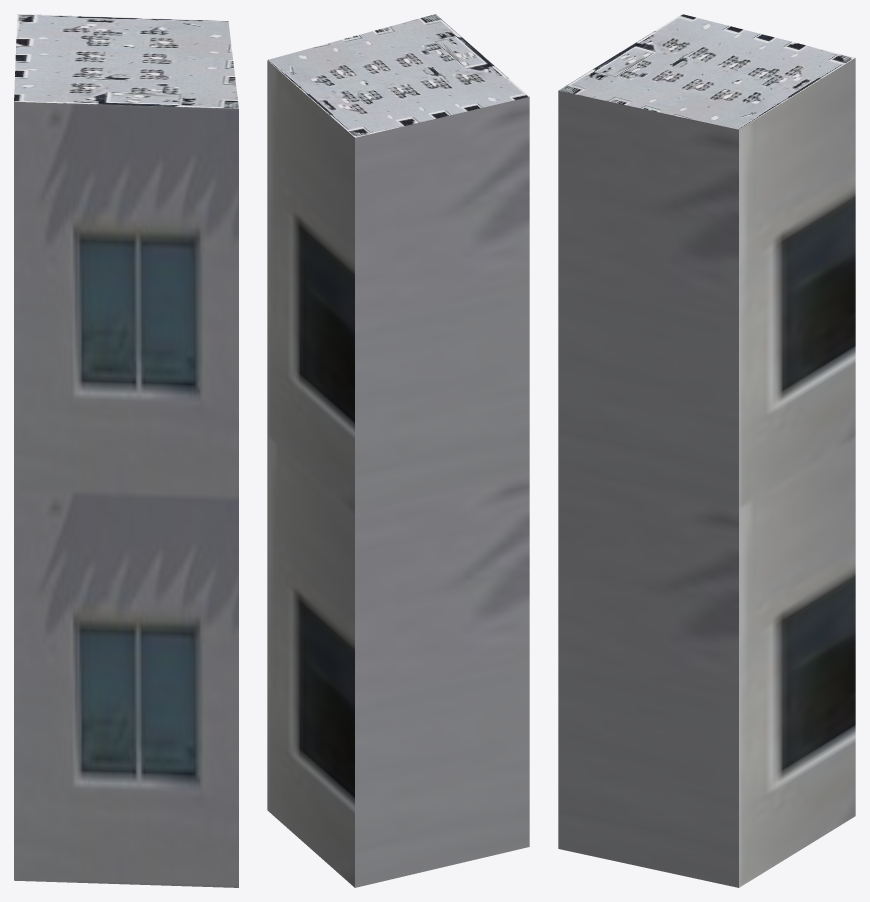
Rendered from ResTex__819.fbx.
3 renders of one model, left to right at view 1: azimuth 30°, elevation 25°; view 2: azimuth 150°, elevation 25°; view 3: azimuth 270°, elevation 25°, orthographic. The views are drawn at different scales.
Visible parts, largest first — view 1: CityEngineMaterial_10_m, CityEngineMaterial_8_m; view 2: CityEngineMaterial_10_m, CityEngineMaterial_8_m; view 3: CityEngineMaterial_10_m, CityEngineMaterial_8_m.
Part boxes in pixels (x1=…): CityEngineMaterial_10_m: x1=14, y1=101, x2=238, y2=887; CityEngineMaterial_8_m: x1=14, y1=14, x2=238, y2=108; CityEngineMaterial_10_m: x1=267, y1=60, x2=529, y2=887; CityEngineMaterial_8_m: x1=267, y1=14, x2=529, y2=137; CityEngineMaterial_10_m: x1=558, y1=58, x2=855, y2=887; CityEngineMaterial_8_m: x1=559, y1=14, x2=854, y2=129.
Size of the model in its own units: 1.96 by 6 by 2.13.
Materials: 2 (2 with a texture image).
